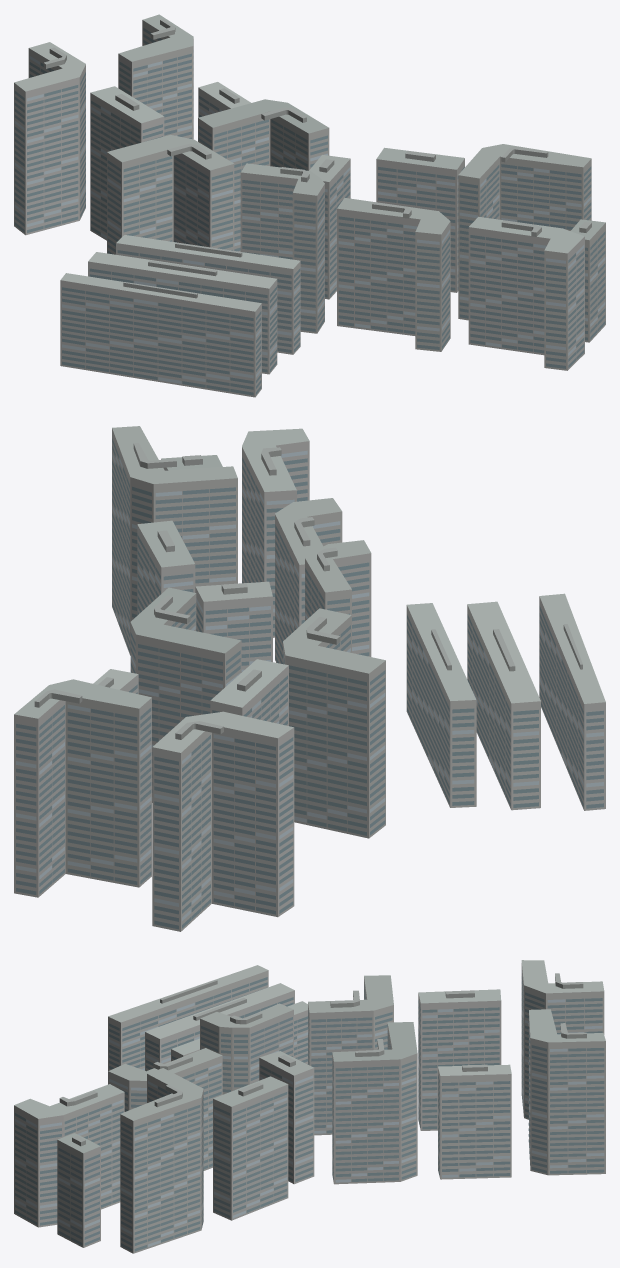
File: apt-a15209305.glb
3 views of the same model, one above another, from view 1: azimuth 30°, elevation 25°; view 2: azimuth 150°, elevation 25°; view 3: azimuth 270°, elevation 25° (orthographic). The views are drawn at different scales.
Parts seen in each view (by area): view 1: apt-a15209305; view 2: apt-a15209305; view 3: apt-a15209305.
Boxes of the visible parts, x1,y1,x2,y2 form: apt-a15209305: (14,14,605,397); apt-a15209305: (14,426,605,931); apt-a15209305: (14,960,605,1253).
Bounding box in the file's own units: 259 × 79 × 309.
